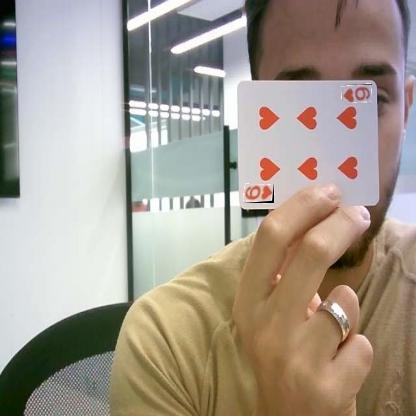6H: (342, 84, 372, 103), (244, 184, 274, 203)
